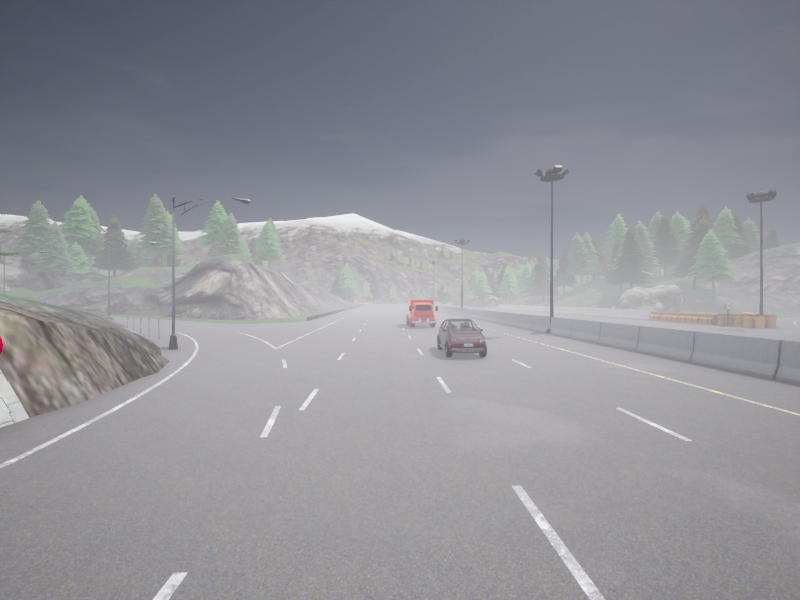vehicle: (437, 319, 486, 356), (406, 299, 437, 326), (442, 302, 446, 303)
